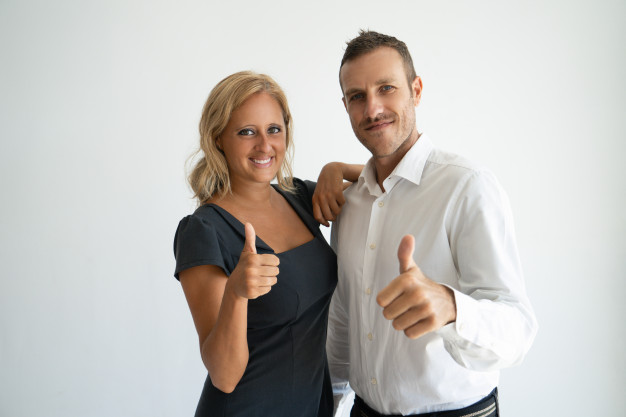thumbsup: (376, 235, 438, 339), (239, 222, 280, 299)
